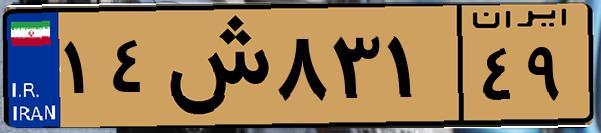1: (385, 28, 445, 110), (57, 26, 110, 100)
3: (330, 28, 385, 110)
4: (475, 38, 525, 113), (110, 28, 158, 98)
8: (270, 28, 330, 110)
9: (525, 38, 570, 115)
ش: (158, 12, 270, 120)
